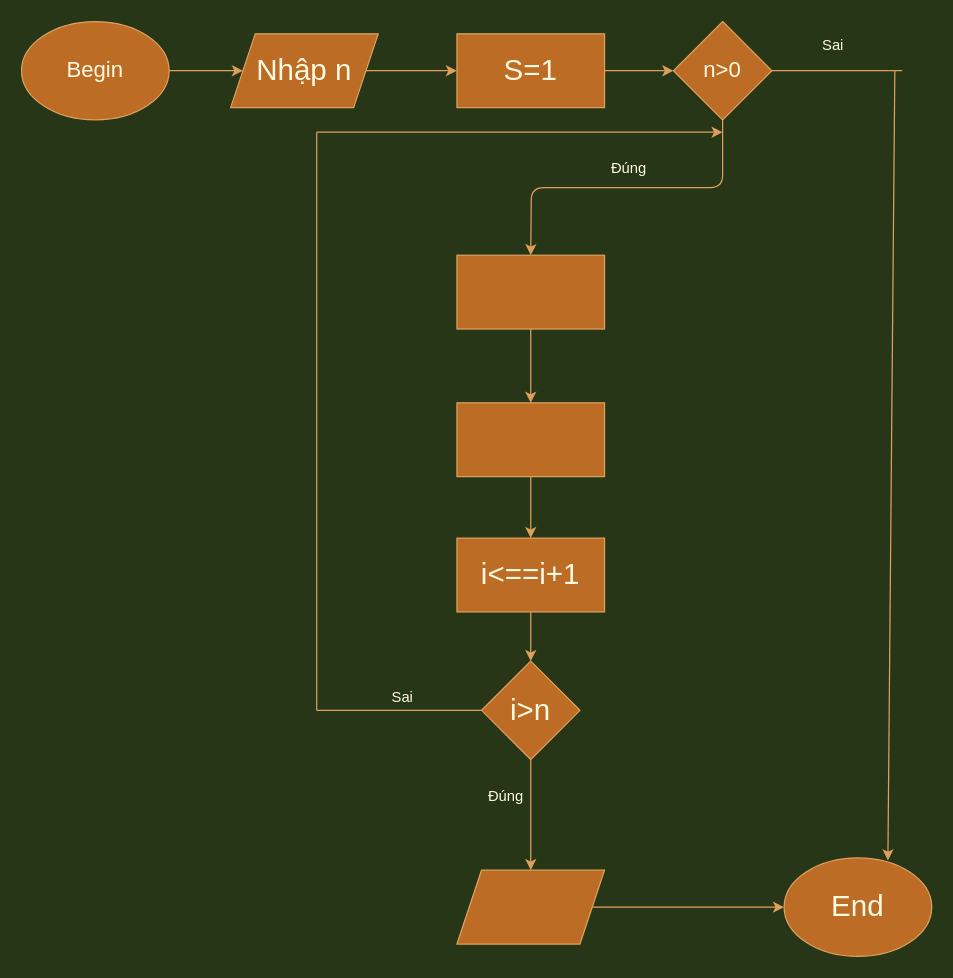
The diagram is 953 pixels wide and 978 high, and some of its shapes have lost their labels. Here are the shapes that lost their labels. From the top down, the box of each, then its label:
(456, 254, 605, 329): i<==1
(456, 402, 605, 477): S<==S*i
(456, 869, 605, 944): Giai thừa của n là S
